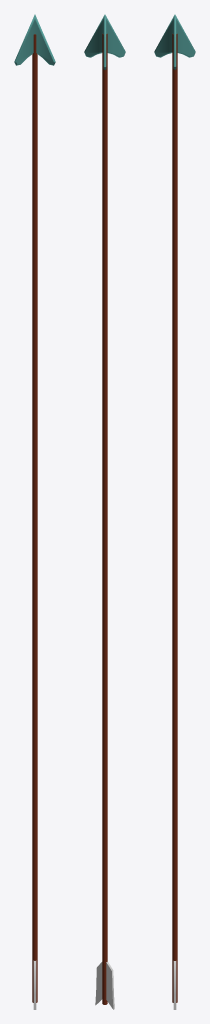
Rendered from Weapon_Arrow_V1.fbx.
3 renders of one model, left to right at view 1: azimuth 90°, elevation 25°; view 2: azimuth 150°, elevation 25°; view 3: azimuth 270°, elevation 25°, orthographic.
Parts seen in each view (by area): view 1: Arrow_head; view 2: Arrow_head; view 3: Arrow_head.
Boxes of the visible parts, x1=… form: Arrow_head: x1=14, y1=14, x2=55, y2=1009; Arrow_head: x1=84, y1=14, x2=125, y2=1009; Arrow_head: x1=154, y1=14, x2=195, y2=1009.
Size of the model in its own units: 1.06 by 31.6 by 1.2.
